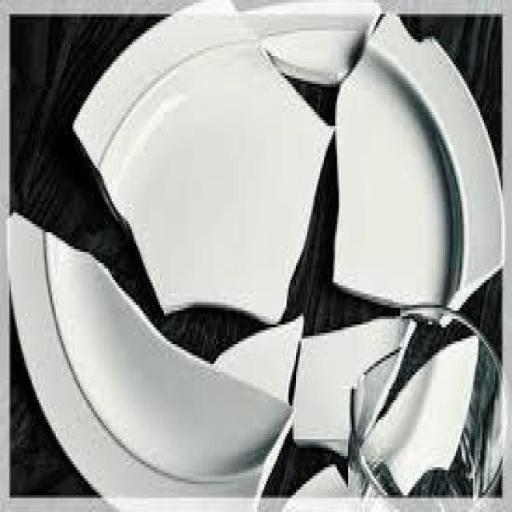glass: (54, 0, 334, 358), (4, 218, 290, 508), (308, 8, 502, 342), (280, 305, 418, 460), (354, 332, 478, 496), (237, 2, 383, 90)
